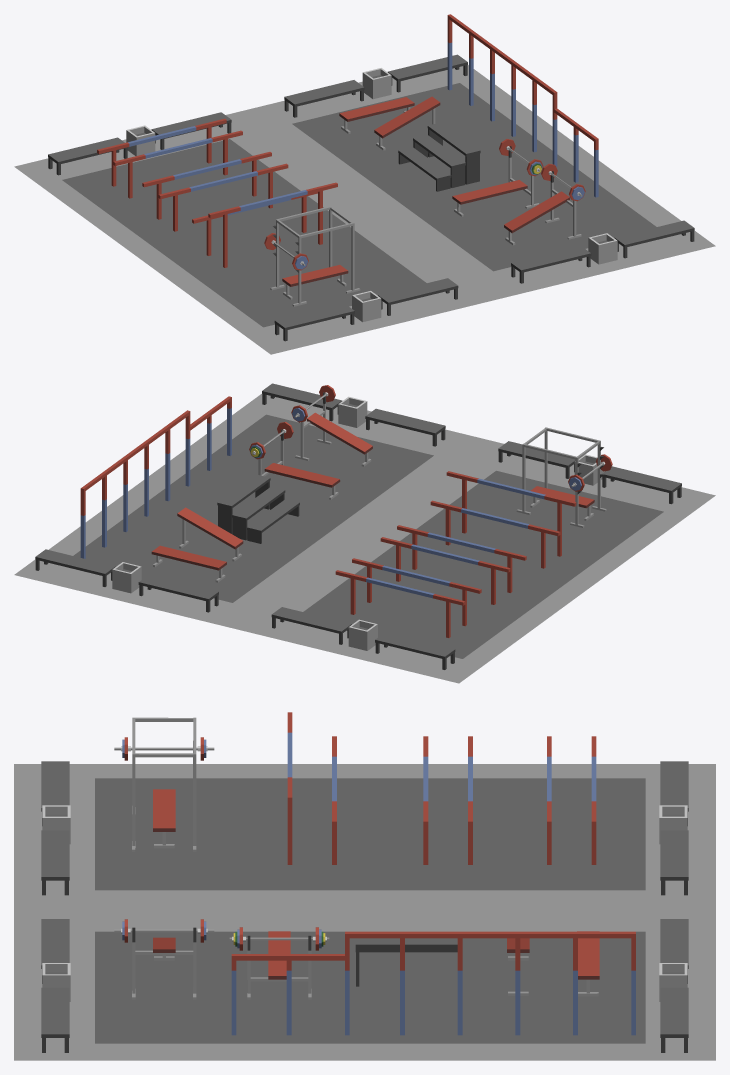
File: landscape_entertainment_002.fbx
3 renders of one model, top to bottom at view 1: azimuth 30°, elevation 25°; view 2: azimuth 150°, elevation 25°; view 3: azimuth 270°, elevation 25°, orthographic. The views are drawn at different scales.
Parts seen in each view (by area): view 1: landscape_entertainment_002; view 2: landscape_entertainment_002; view 3: landscape_entertainment_002.
Boxes of the visible parts, x1,y1,x2,y2 form: landscape_entertainment_002: (14, 14, 715, 354); landscape_entertainment_002: (14, 383, 715, 683); landscape_entertainment_002: (14, 712, 715, 1060).
Size of the model in its own units: 1600 by 263 by 1600.
